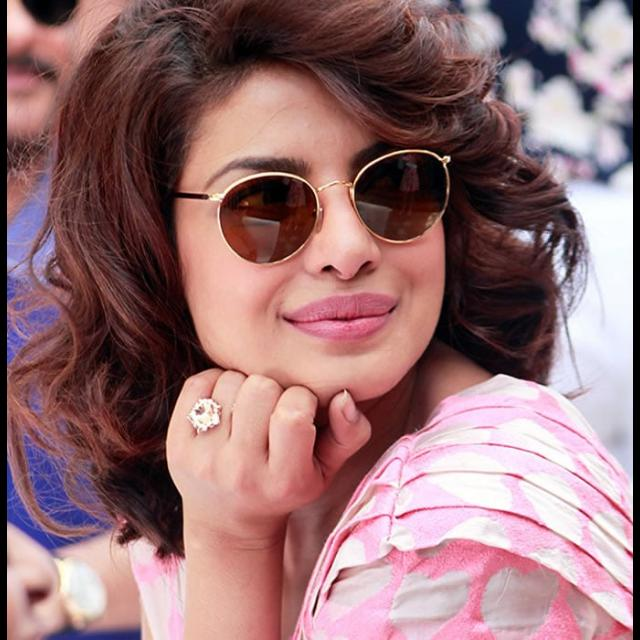Sunglasses: (152, 149, 476, 271)
